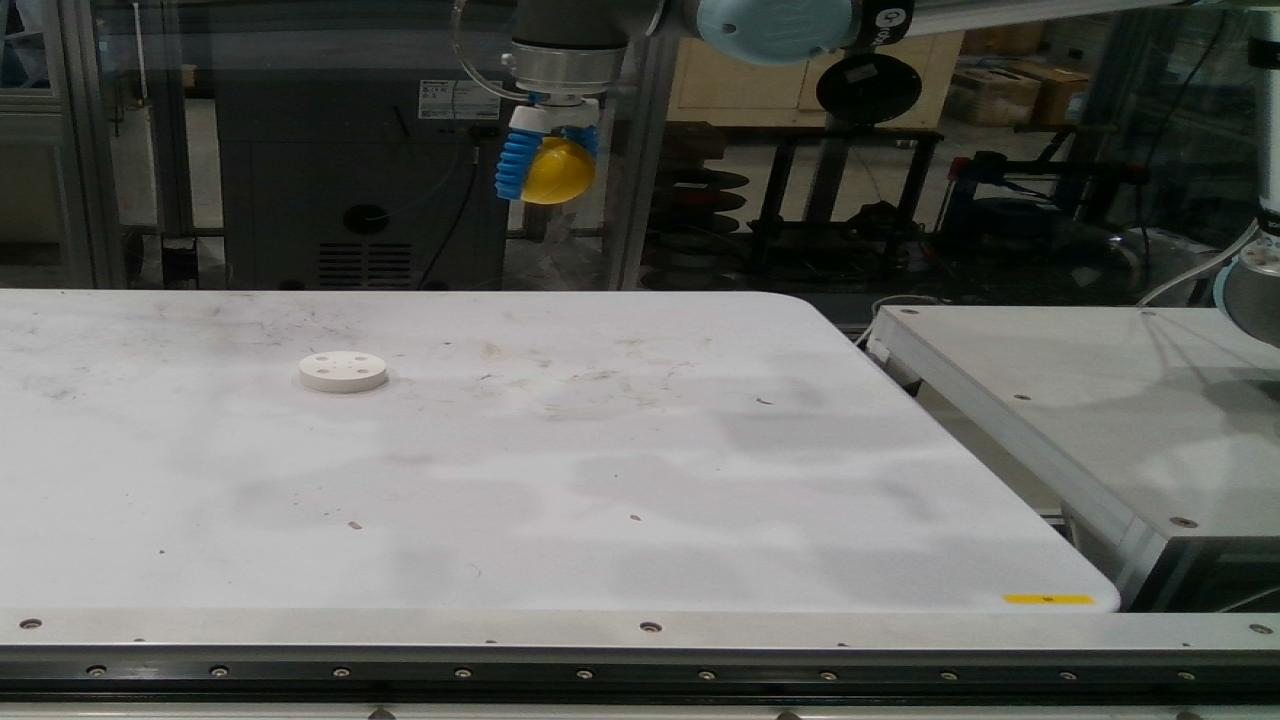UR5: (506, 6, 1150, 133), (1213, 12, 1279, 347)
gripper_left: (561, 127, 595, 157)
gripper_right: (496, 130, 536, 197)
target: (519, 137, 593, 205), (298, 354, 384, 394)
